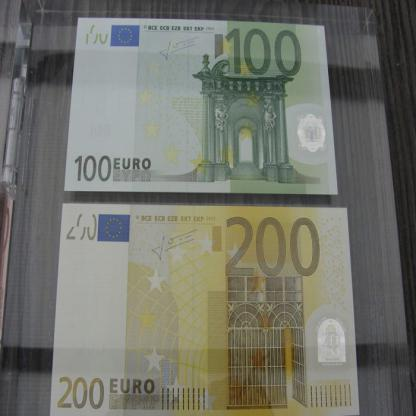euro_banknote: (50, 204, 362, 416), (66, 21, 340, 195)
